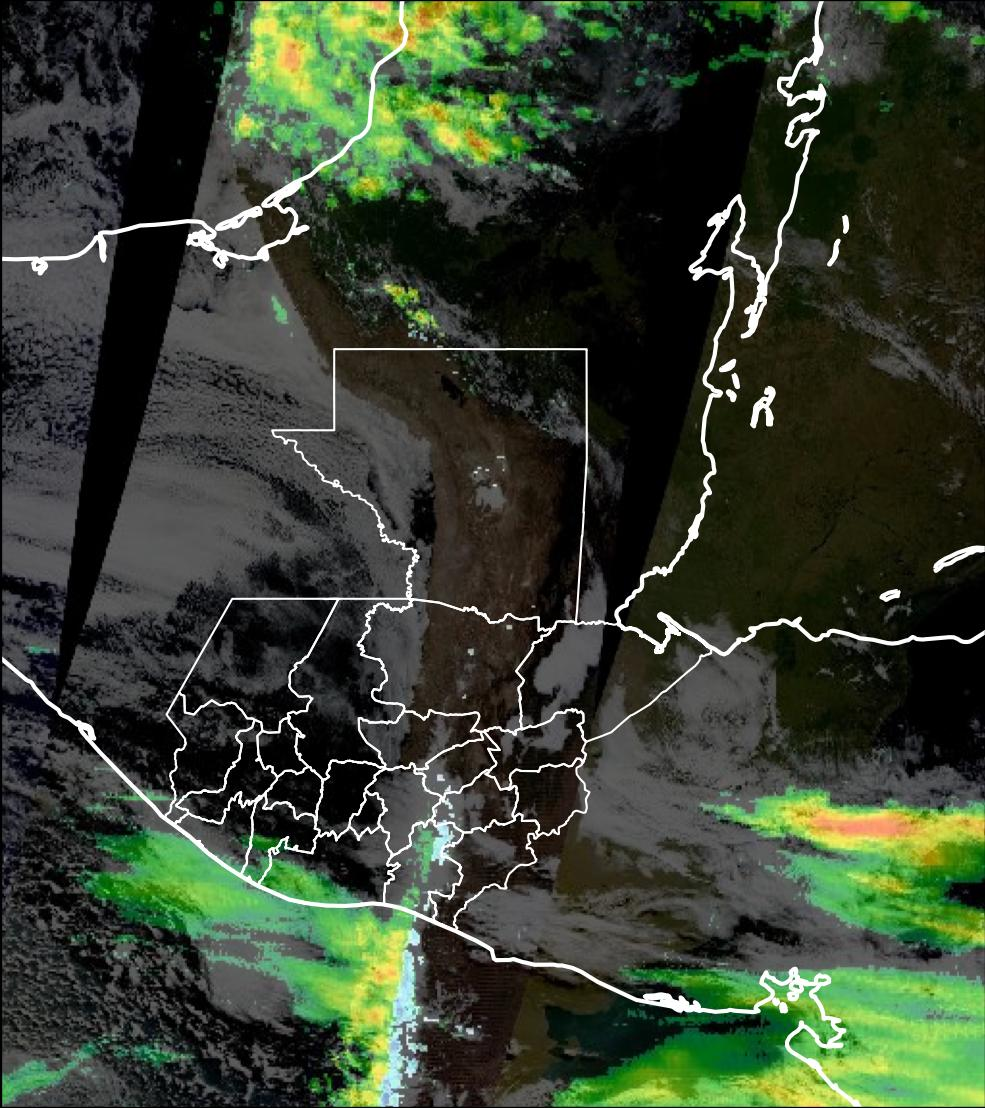precipitacion: (779, 790, 956, 860)
